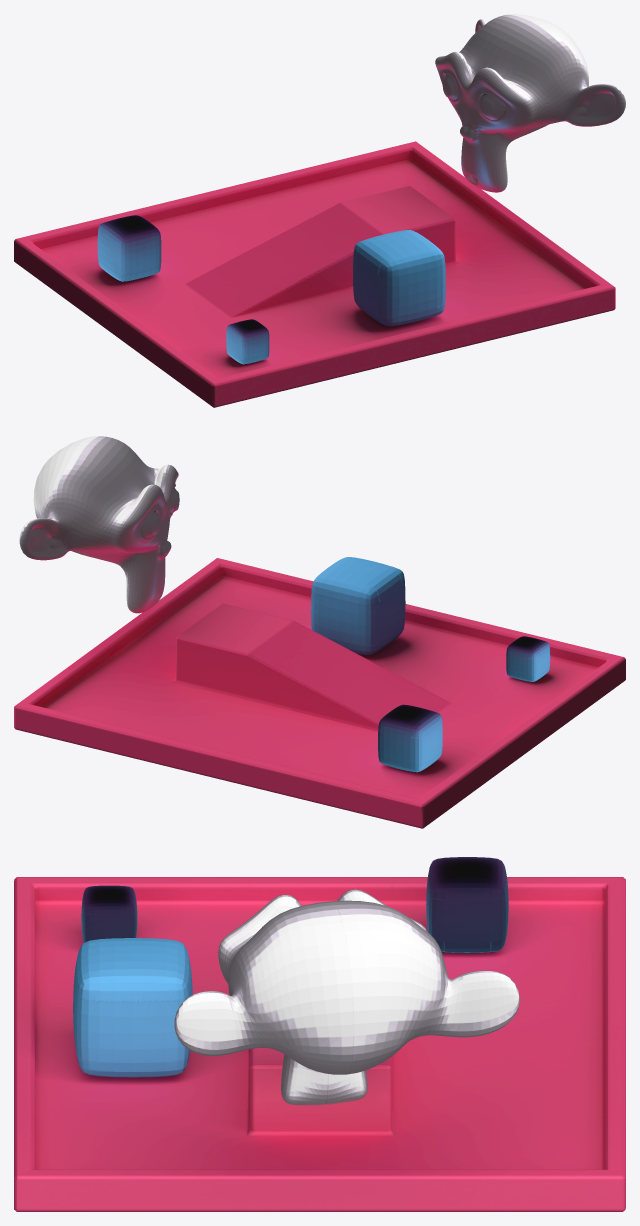
Rendered from texturebaking02-001.glb.
The picture shows the model from 3 angles, top to bottom: view 1: azimuth 30°, elevation 25°; view 2: azimuth 150°, elevation 25°; view 3: azimuth 270°, elevation 25°; orthographic projection. The views are drawn at different scales.
Parts seen in each view (by area): view 1: Plane, Suzanne, Cube.002, Cube.001, Cube; view 2: Plane, Suzanne, Cube.002, Cube.001, Cube; view 3: Plane, Suzanne, Cube.002, Cube.001, Cube.
Boxes of the visible parts, <box> form: Plane: <box>14,141,615,407</box>; Suzanne: <box>435,14,625,192</box>; Cube.002: <box>353,230,445,326</box>; Cube.001: <box>97,215,161,281</box>; Cube: <box>226,319,269,364</box>; Plane: <box>14,558,625,828</box>; Suzanne: <box>19,436,179,613</box>; Cube.002: <box>311,557,405,654</box>; Cube.001: <box>378,704,442,772</box>; Cube: <box>506,636,550,681</box>; Plane: <box>14,877,625,1211</box>; Suzanne: <box>174,889,519,1105</box>; Cube.002: <box>73,938,192,1077</box>; Cube.001: <box>426,857,508,952</box>; Cube: <box>81,885,137,942</box>.
Bounding box in the file's own units: 29.06 × 12.17 × 21.46.
3 materials, 3 textured.
